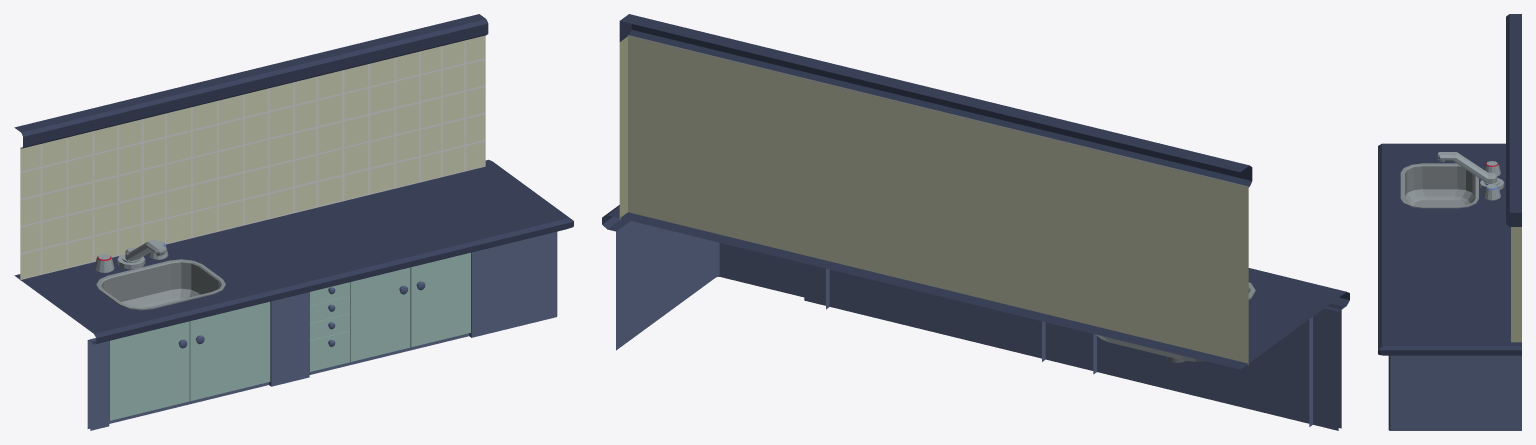
File: kitchenA_mdl.fbx
3 views of the same model, side by side, from view 1: azimuth 30°, elevation 25°; view 2: azimuth 150°, elevation 25°; view 3: azimuth 270°, elevation 25° (orthographic). The views are drawn at different scales.
Parts seen in each view (by area): view 1: pCylinder17, group2_tableFax_geo1, pCube17, pPlane12; view 2: pCylinder17, group2_tableFax_geo1, pCube17, pPlane12; view 3: pCube17, group2_tableFax_geo1, pCylinder17.
Part boxes in pixels (<box>): pCylinder17: <box>14,78,296,430</box>; group2_tableFax_geo1: <box>215,30,496,381</box>; pCube17: <box>415,14,573,332</box>; pPlane12: <box>20,36,485,280</box>; pCylinder17: <box>973,100,1349,430</box>; group2_tableFax_geo1: <box>706,35,1071,365</box>; pCube17: <box>602,14,804,350</box>; pPlane12: <box>628,35,1248,187</box>; pCube17: <box>1378,185,1521,430</box>; group2_tableFax_geo1: <box>1378,99,1521,316</box>; pCylinder17: <box>1378,14,1521,231</box>.
Size of the model in its own units: 4.78 by 2.36 by 1.42.
